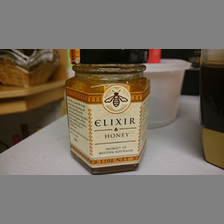honey: (65, 47, 152, 176)
